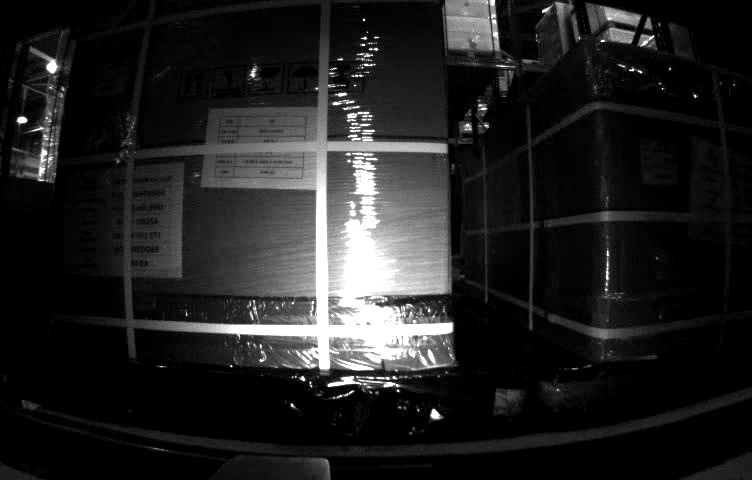True Barcode: (641, 139, 680, 186), (83, 63, 127, 94)
